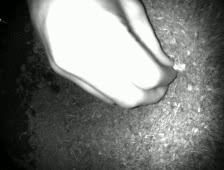corn: (170, 61, 180, 72), (177, 62, 187, 73)
